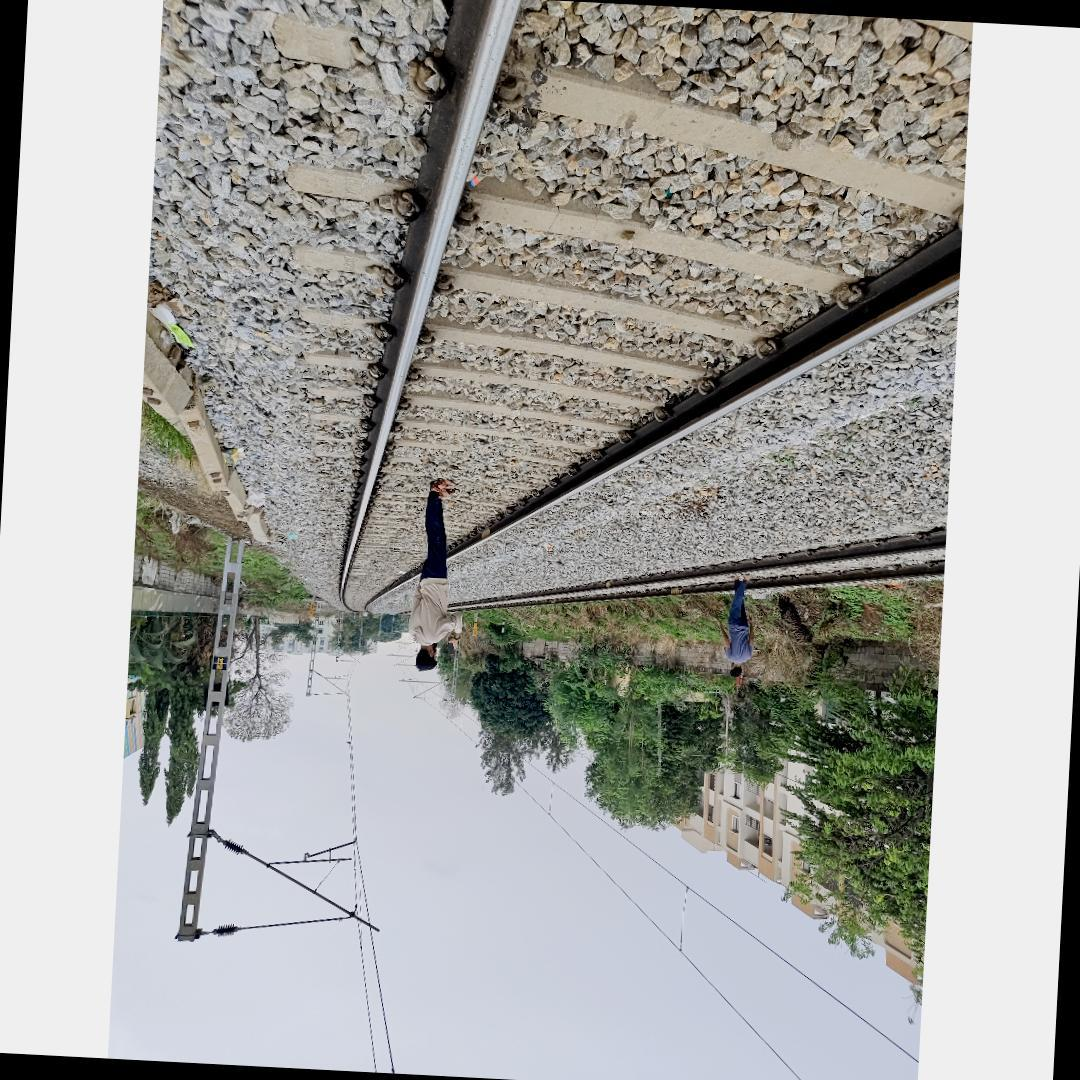standing: (404, 477, 472, 674), (712, 573, 758, 680)
track: (299, 0, 973, 629), (412, 457, 950, 632)
